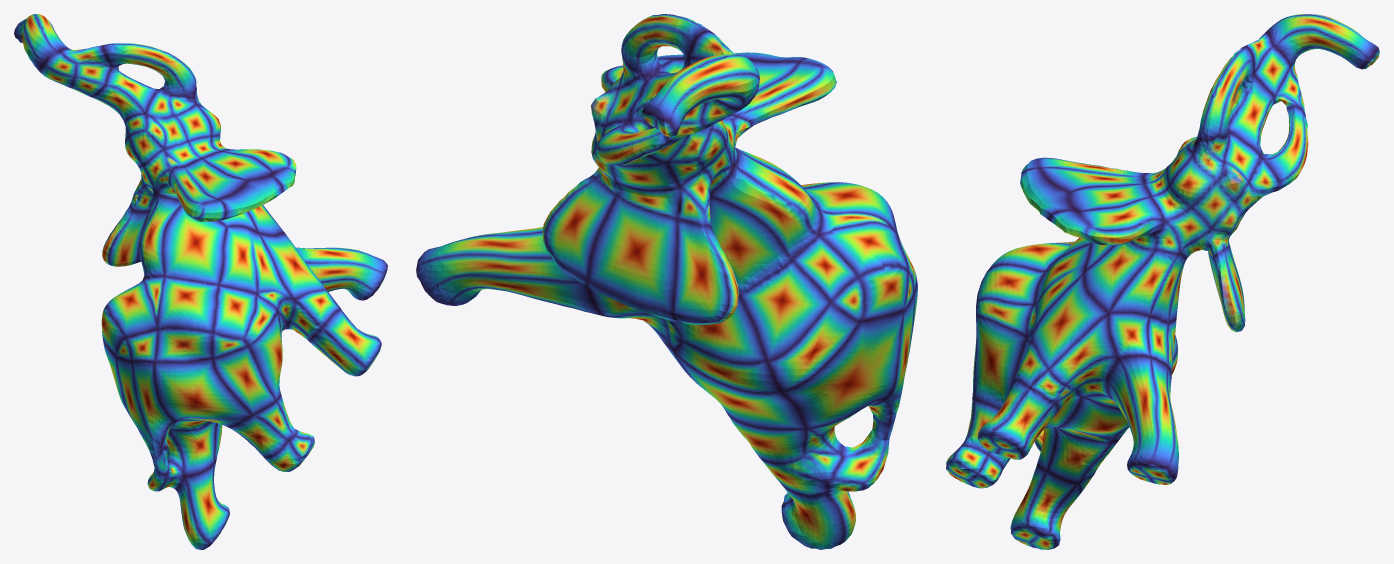
Rendered from gen0.glb.
3 views of the same model, side by side, from view 1: azimuth 30°, elevation 25°; view 2: azimuth 150°, elevation 25°; view 3: azimuth 270°, elevation 25° (orthographic). The views are drawn at different scales.
Parts seen in each view (by area): view 1: Node; view 2: Node; view 3: Node.
Boxes of the visible parts, left/top/right/bottom form: Node: left=14, top=14, right=387, bottom=549; Node: left=416, top=14, right=917, bottom=549; Node: left=946, top=14, right=1379, bottom=549.
Size of the model in its own units: 0.7021 by 0.9675 by 0.745.
1 material, 1 textured.
